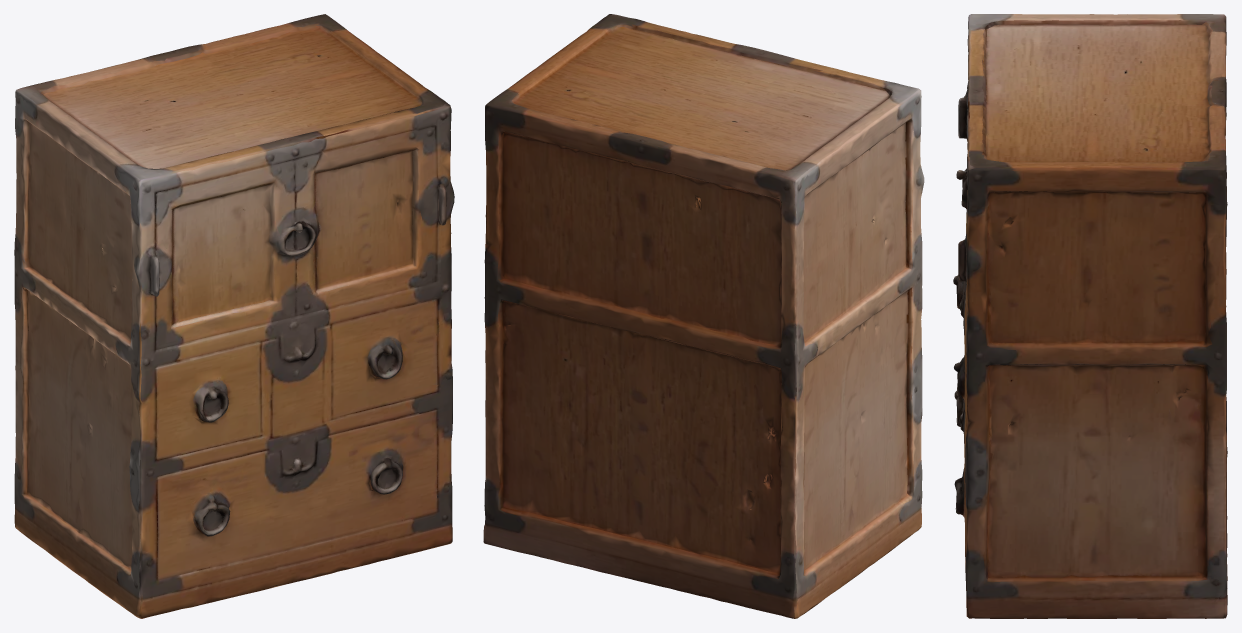
3 renders of one model, left to right at view 1: azimuth 30°, elevation 25°; view 2: azimuth 150°, elevation 25°; view 3: azimuth 270°, elevation 25°, orthographic. The views are drawn at different scales.
Parts seen in each view (by area): view 1: Mesh_0; view 2: Mesh_0; view 3: Mesh_0.
Part boxes in pixels (x1,y1,x2,y2): Mesh_0: [14, 14, 454, 618]; Mesh_0: [483, 14, 924, 618]; Mesh_0: [953, 14, 1227, 618].
Bounding box in the file's own units: 0.9129 × 1.21 × 0.6668.
Materials: 1 (1 with a texture image).
